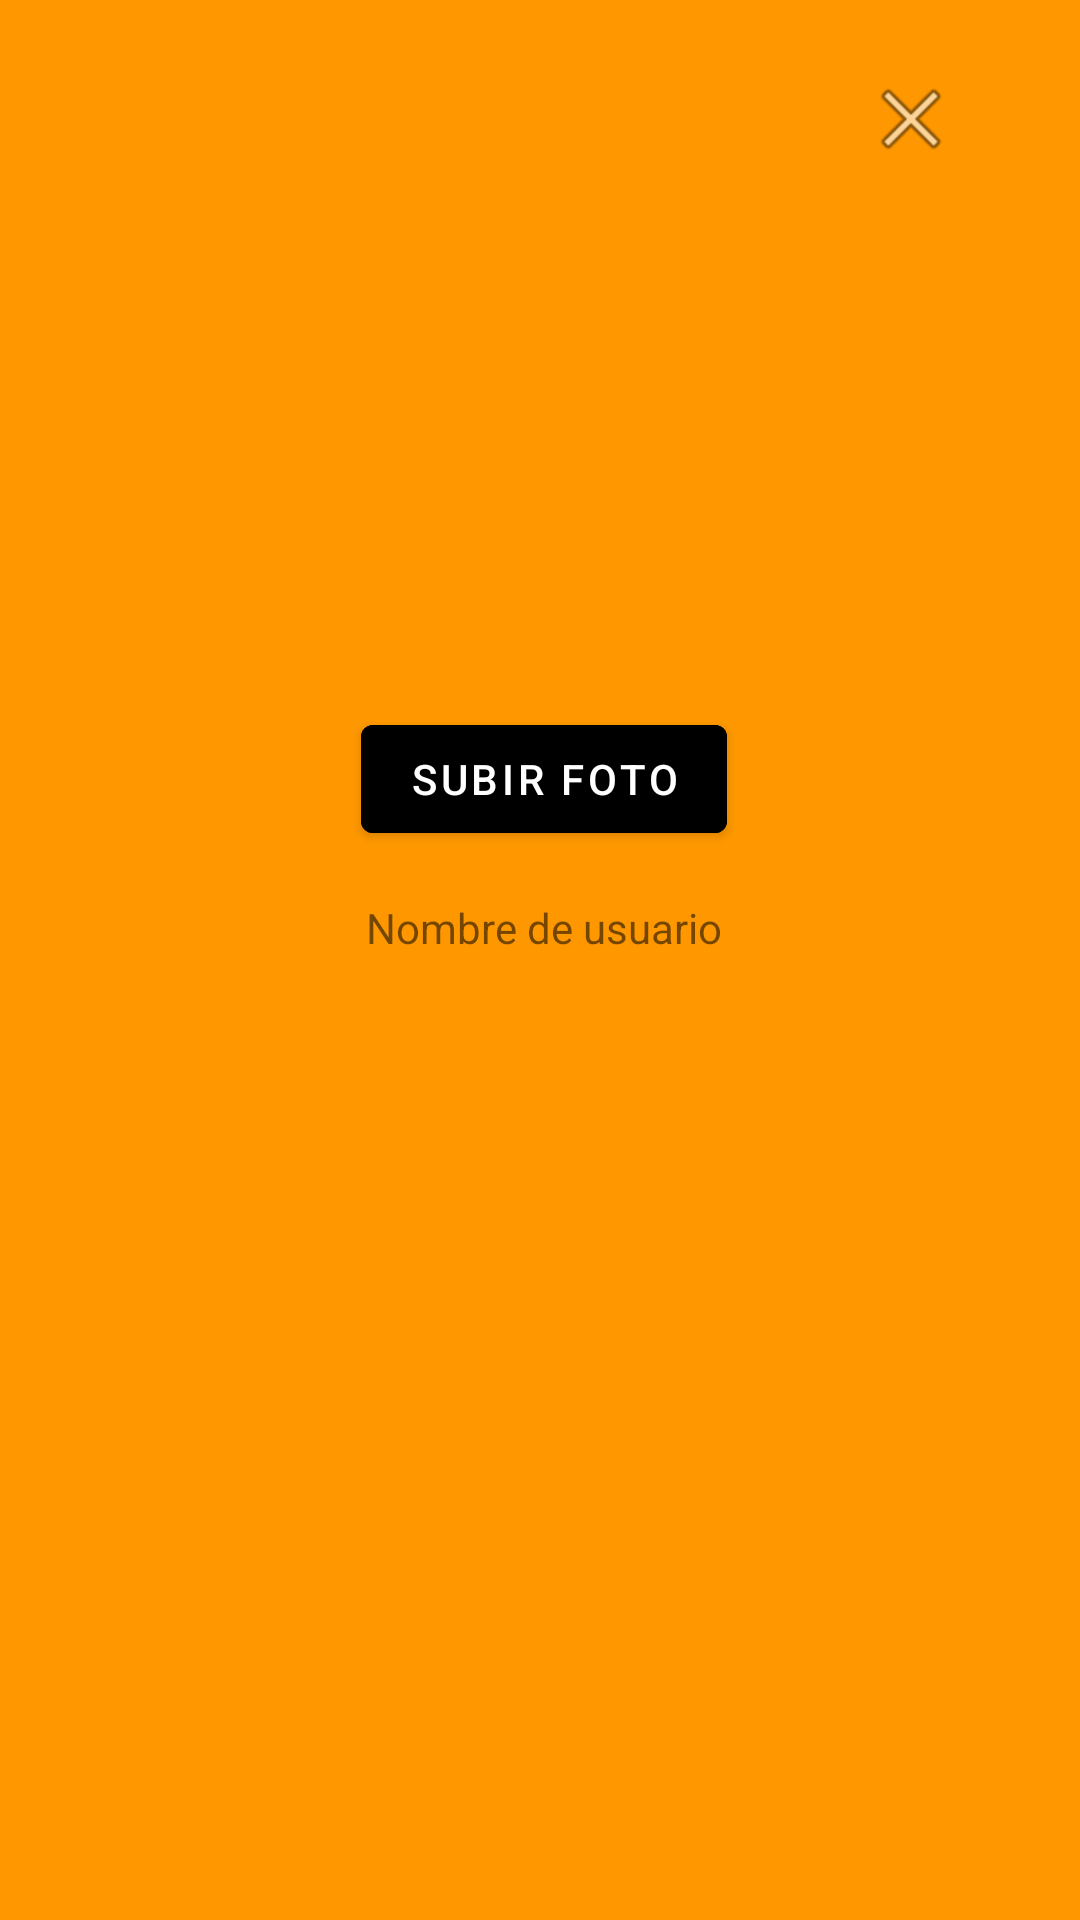

Point at icon controls on the screen. Image size 1080px x 1920px, points as (x,y).
Cerrar perfil: (911,119)
